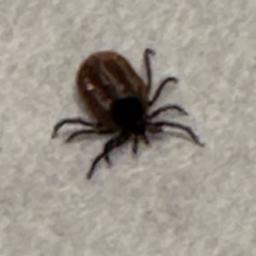Ixodes scapularis: (51, 48, 208, 181)
